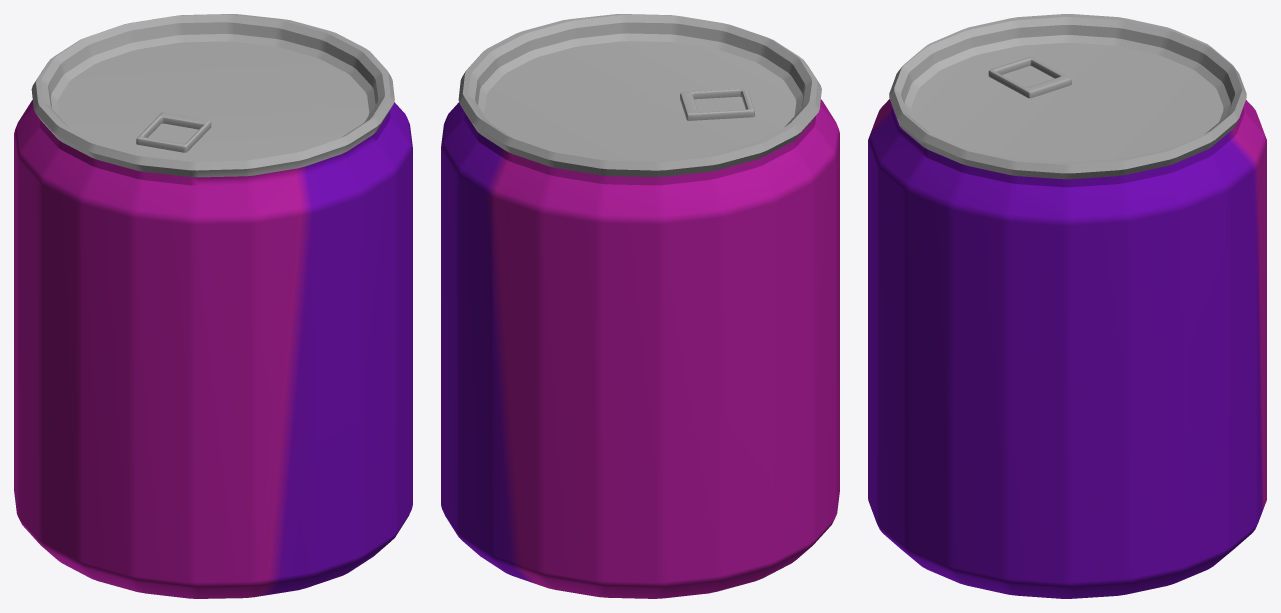
The model's file is Ürün75.fbx.
The picture shows the model from 3 angles, left to right: view 1: azimuth 30°, elevation 25°; view 2: azimuth 150°, elevation 25°; view 3: azimuth 270°, elevation 25°; orthographic projection.
Visible parts, largest first — view 1: Ürün10; view 2: Ürün10; view 3: Ürün10.
Boxes of the visible parts, x1,y1,x2,y2 form: Ürün10: (14,14,412,598); Ürün10: (441,14,839,598); Ürün10: (868,14,1266,598).
Bounding box in the file's own units: 11.57 × 14.02 × 11.57.
